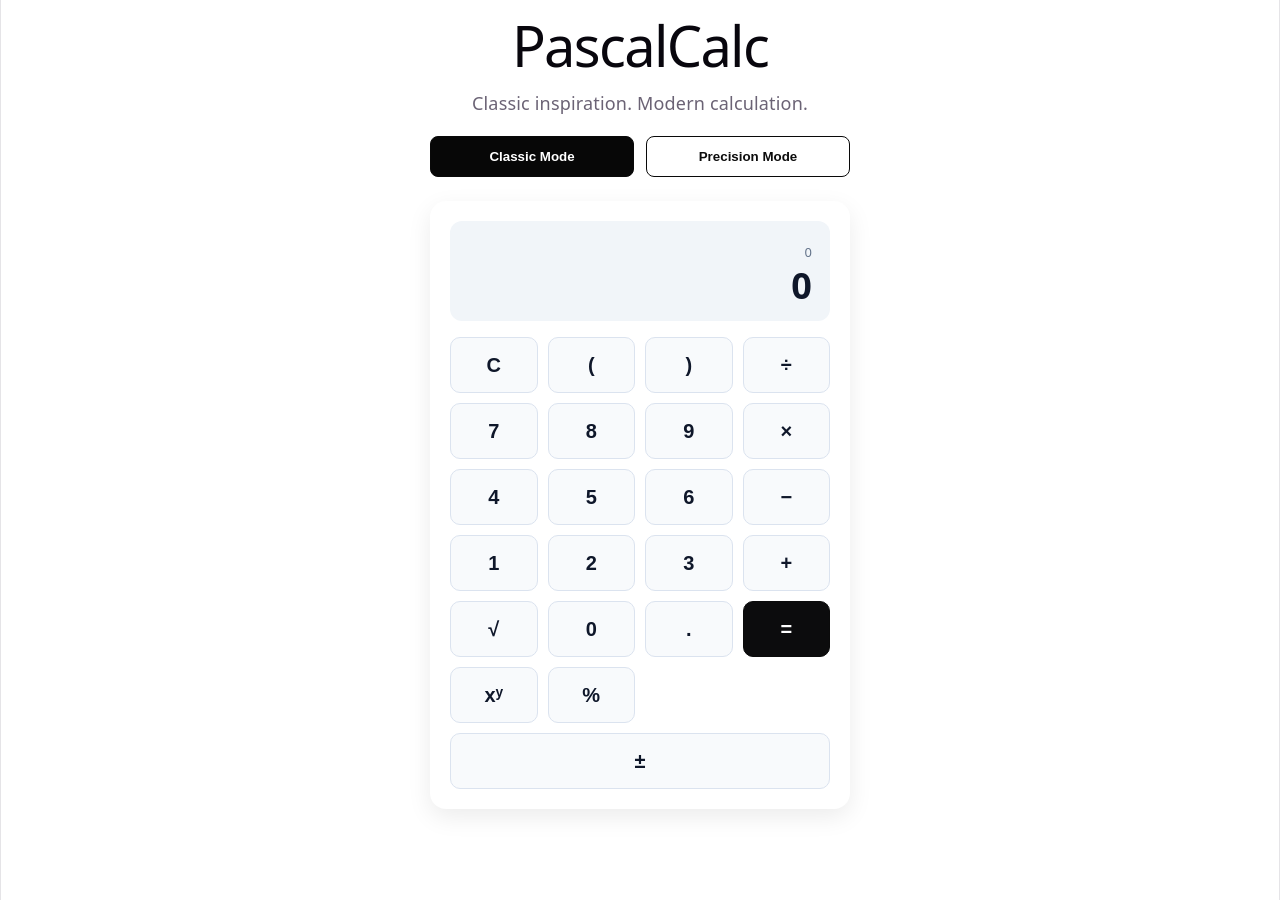
PascalCalc - Precision Mode › renders the calculator form
Click the button "Precision Mode" at (748, 157), box [646,136,850,177]
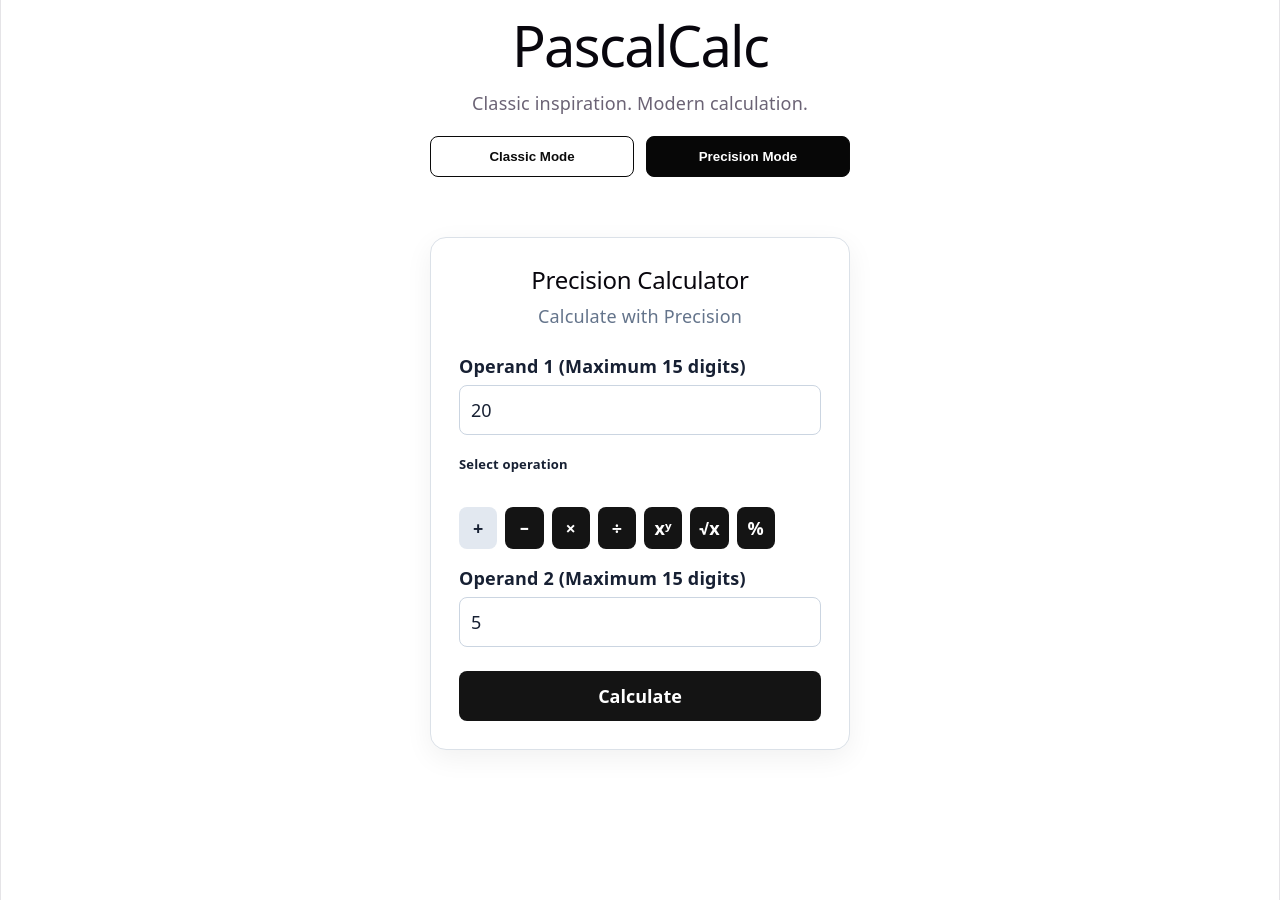
Expected: the heading "Precision Calculator" is shown, [531,263,749,296]
Expected: the field labelled "Operand 1 (Maximum 15 digits)" is shown, [459,385,821,435]
Expected: the field labelled "Operand 2 (Maximum 15 digits)" is shown, [459,597,821,647]
